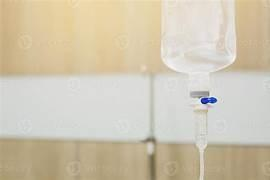Iv_Bottle: (161, 0, 235, 74)
